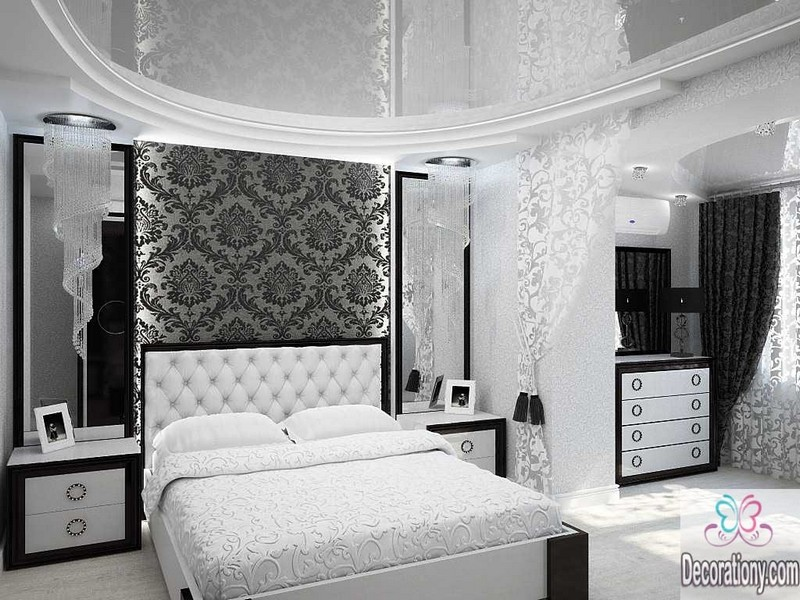bed: (127, 134, 590, 600)
lamp: (657, 282, 707, 361)
stool: (5, 437, 150, 566), (612, 348, 718, 487), (398, 403, 510, 496)
